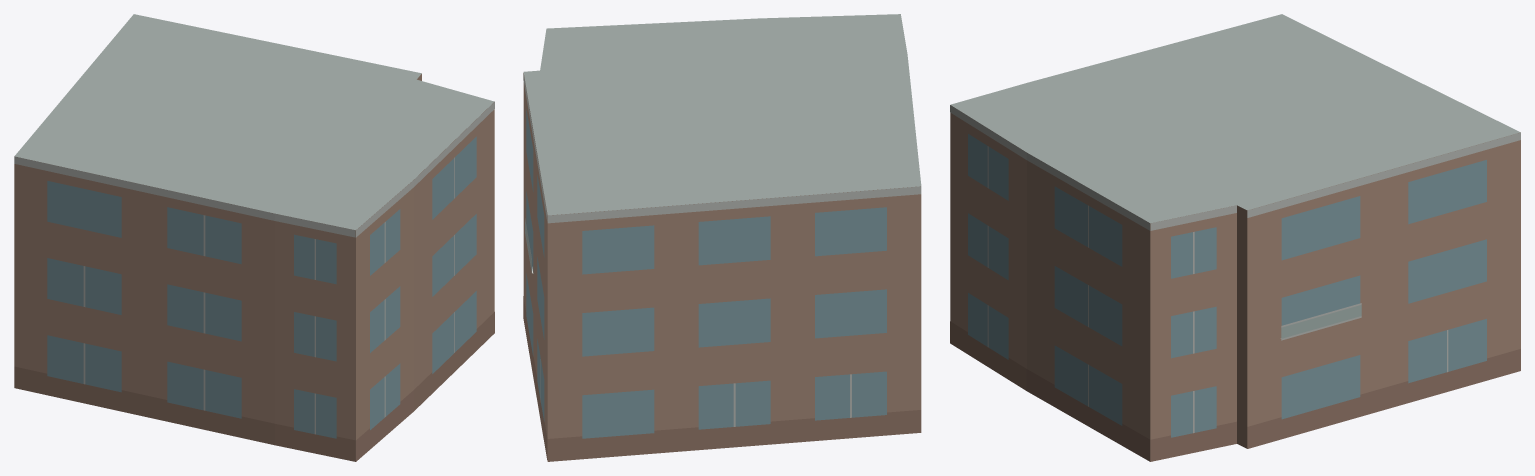
The model's file is survey-upis-32598510.glb.
3 views of the same model, side by side, from view 1: azimuth 30°, elevation 25°; view 2: azimuth 150°, elevation 25°; view 3: azimuth 270°, elevation 25° (orthographic). The views are drawn at different scales.
Parts seen in each view (by area): view 1: survey-upis-32598510.tmp; view 2: survey-upis-32598510.tmp; view 3: survey-upis-32598510.tmp.
Boxes of the visible parts, x1,y1,x2,y2 form: survey-upis-32598510.tmp: [14, 14, 494, 461]; survey-upis-32598510.tmp: [523, 14, 921, 461]; survey-upis-32598510.tmp: [950, 14, 1520, 461].
Bounding box in the file's own units: 14.31 × 7.6 × 16.49.
